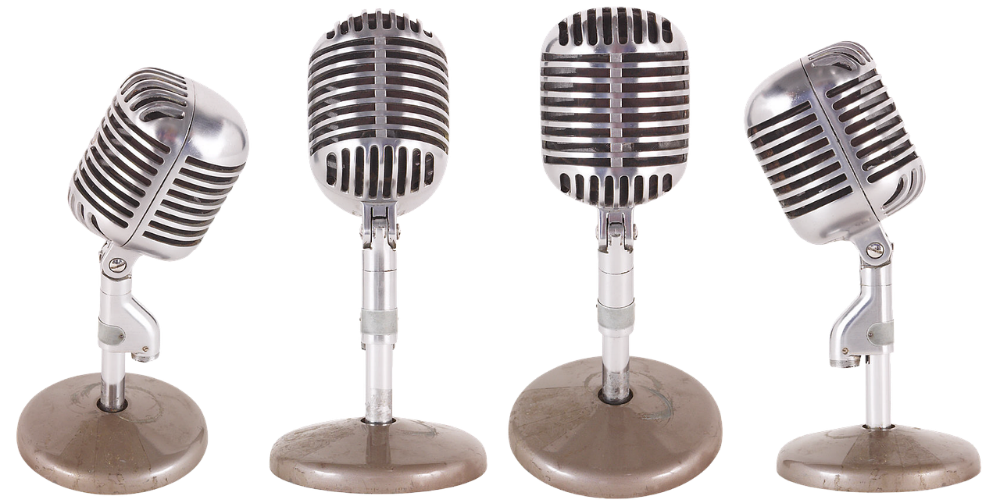microphone: (745, 39, 982, 495), (269, 8, 489, 496), (507, 5, 723, 500), (14, 64, 249, 498)
